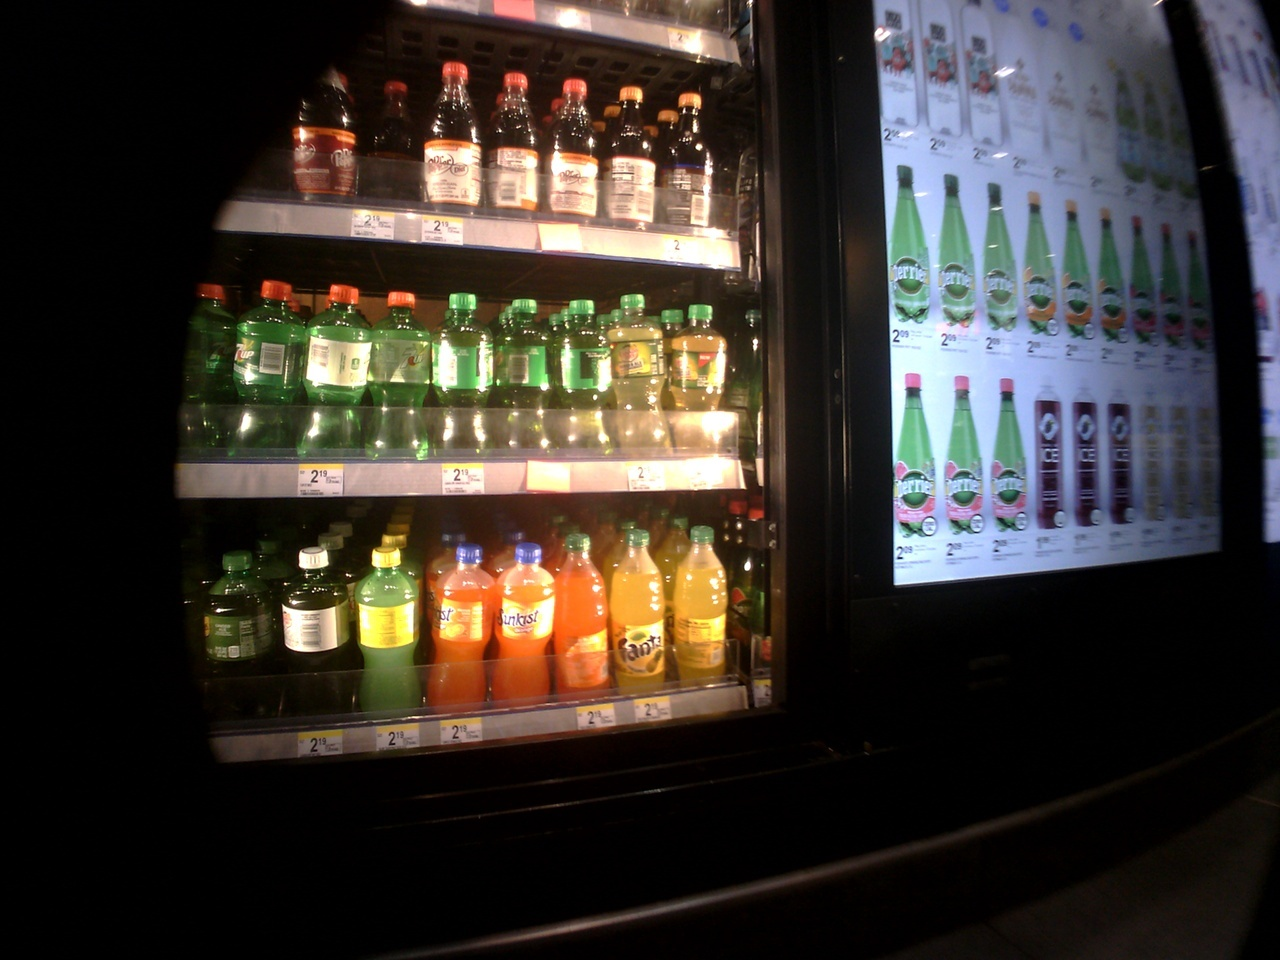shelf: (162, 497, 769, 740), (169, 265, 750, 500), (194, 26, 728, 267)
